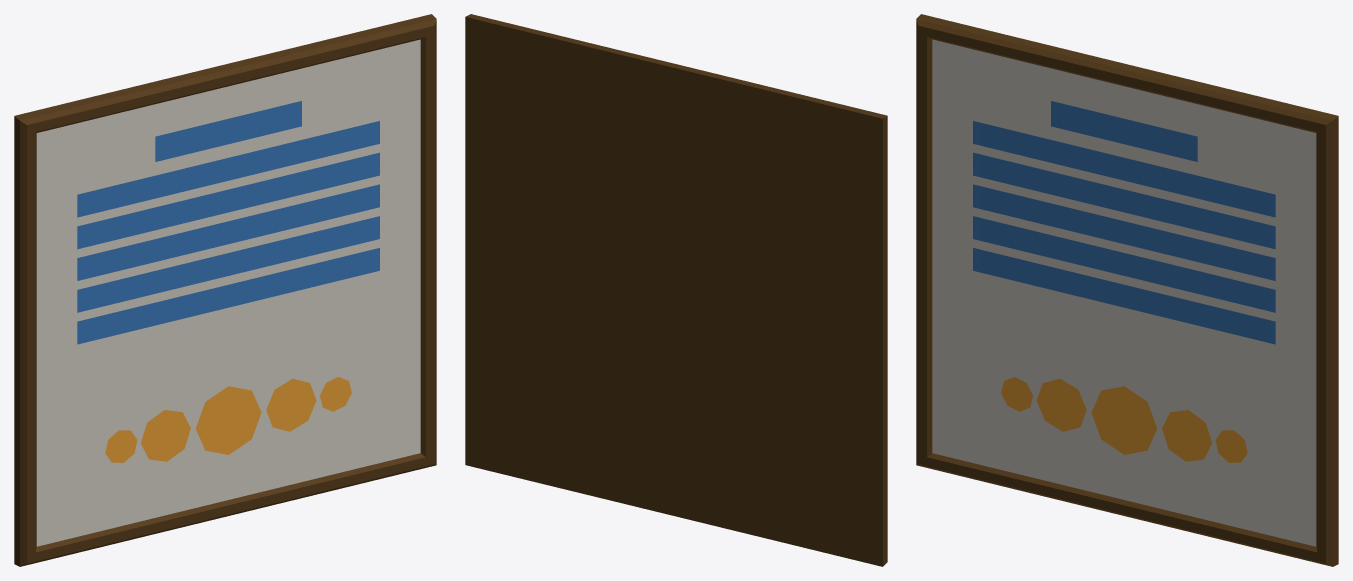
File: Int_WallCertificate01_3.fbx
3 renders of one model, left to right at view 1: azimuth 30°, elevation 25°; view 2: azimuth 150°, elevation 25°; view 3: azimuth 330°, elevation 25°, orthographic.
Parts seen in each view (by area): view 1: Int_WallCertificate01_3; view 2: Int_WallCertificate01_3; view 3: Int_WallCertificate01_3.
Boxes of the visible parts, bbox=[...] form: Int_WallCertificate01_3: bbox=[14, 14, 436, 566]; Int_WallCertificate01_3: bbox=[465, 14, 887, 566]; Int_WallCertificate01_3: bbox=[916, 14, 1338, 566].
Size of what is drawn, in the model's own units: 56.31 by 1.79 by 57.74.
